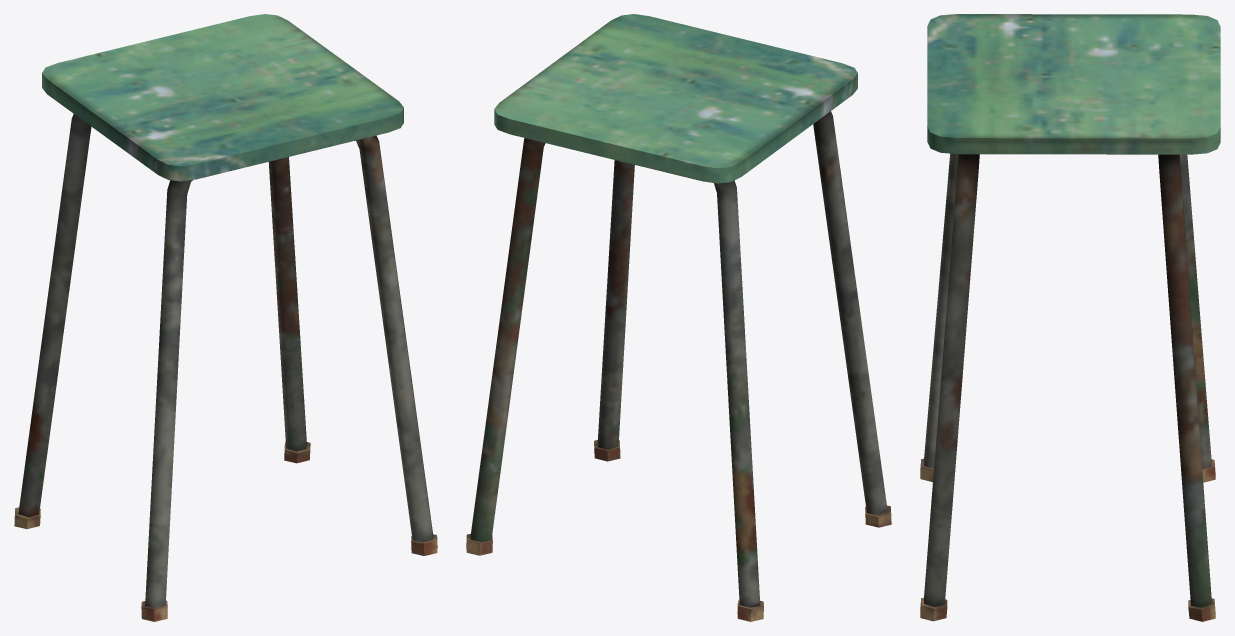
File: MetalStool.FBX
3 views of the same model, side by side, from view 1: azimuth 30°, elevation 25°; view 2: azimuth 150°, elevation 25°; view 3: azimuth 270°, elevation 25° (orthographic). The views are drawn at different scales.
Visible parts, largest first — view 1: MetalStool; view 2: MetalStool; view 3: MetalStool.
Part boxes in pixels (left/top/right/bottom): MetalStool: left=14, top=14, right=437, bottom=621; MetalStool: left=466, top=14, right=891, bottom=621; MetalStool: left=920, top=14, right=1220, bottom=621.
Bounding box in the file's own units: 50.4 × 72.46 × 42.02.
